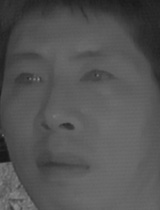eye: (78, 65, 118, 89), (12, 68, 44, 89)
mouth: (32, 146, 92, 186)
